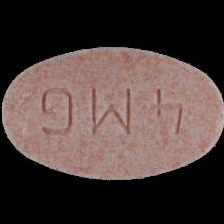63187-550: (0, 0, 224, 224)
